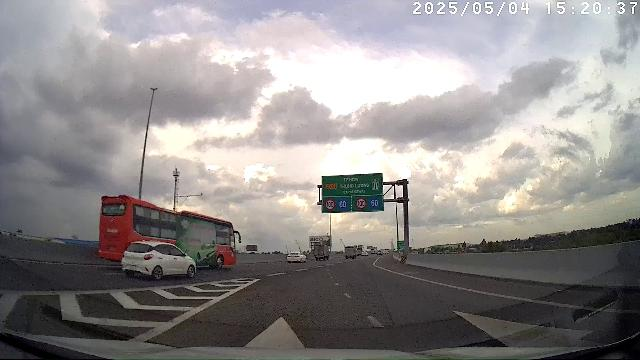127-toc-do-toi-da-100: (355, 197, 367, 209), (324, 198, 336, 210)
306-toc-do-toi-thieu-60: (369, 197, 381, 209), (338, 198, 348, 210)
437-bat-dau-duong-cao-toc: (371, 177, 381, 191)
